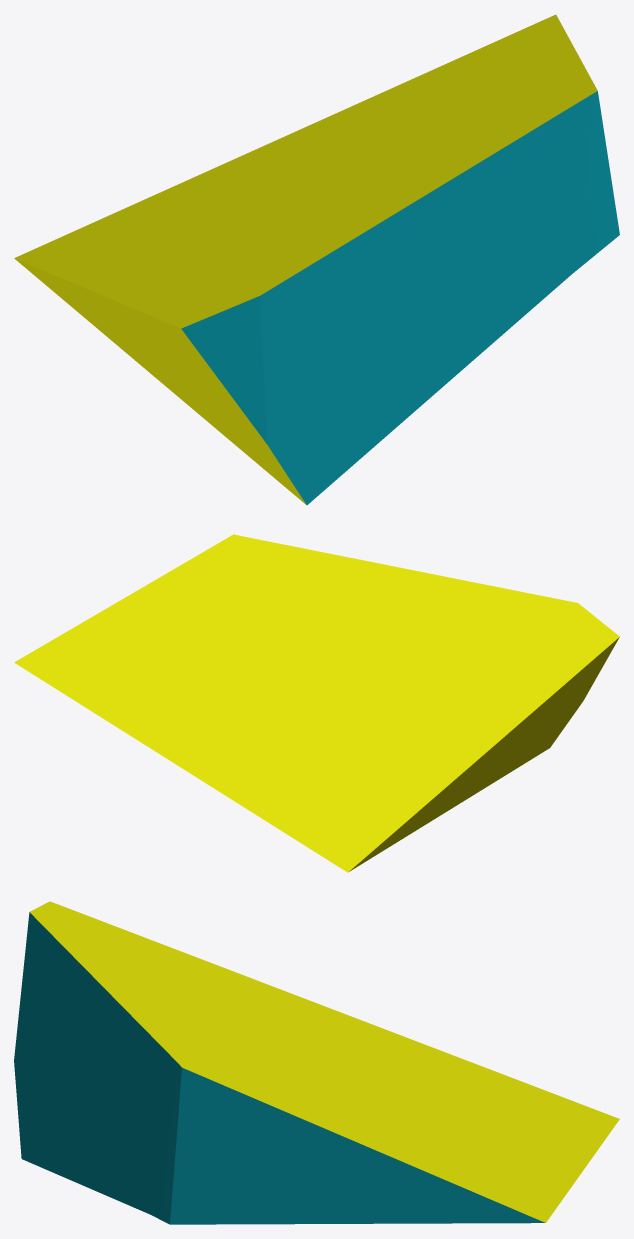
The picture shows the model from 3 angles, top to bottom: view 1: azimuth 30°, elevation 25°; view 2: azimuth 150°, elevation 25°; view 3: azimuth 270°, elevation 25°; orthographic projection. The views are drawn at different scales.
Visible parts, largest first — view 1: polySurface14; view 2: polySurface14; view 3: polySurface14.
Boxes of the visible parts, box(x1,y1,x2,y2) form: polySurface14: box(14, 14, 619, 505); polySurface14: box(14, 534, 619, 872); polySurface14: box(14, 901, 619, 1224).
Size of the model in its own units: 0.2903 by 0.121 by 0.2395.
